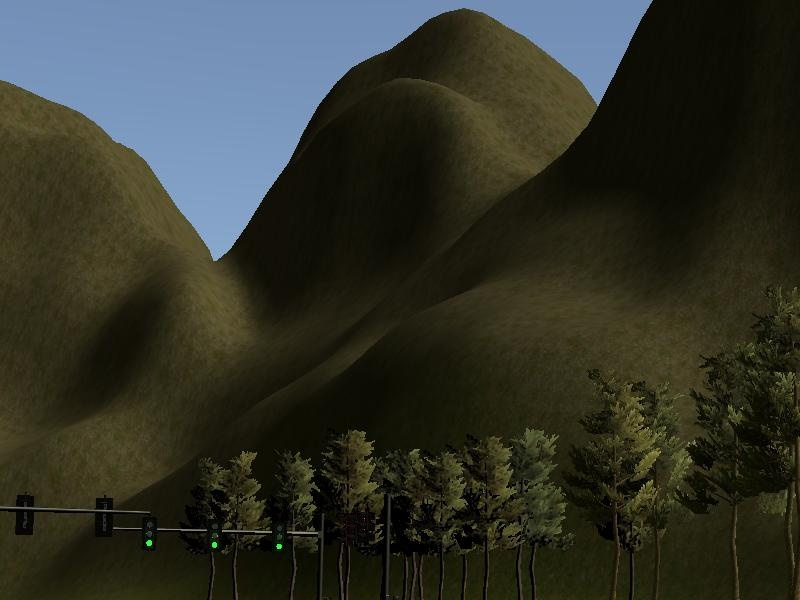GREEN: (204, 514, 224, 553), (271, 514, 289, 554), (140, 516, 157, 553)
